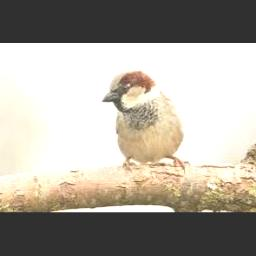Sparrow: (101, 70, 189, 174)
